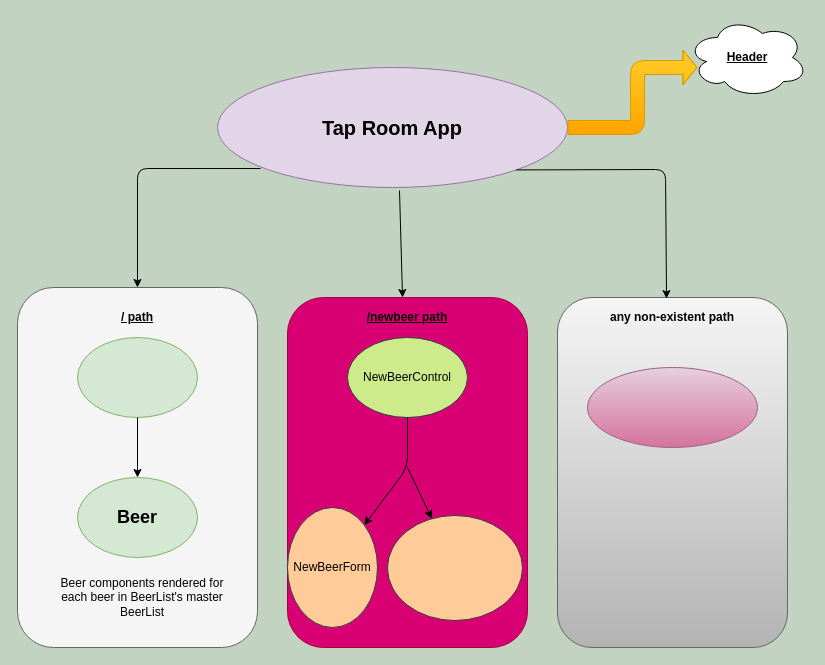
This 825x665 diagram has some shape labels left out. Here are the shapes that lost their labels. From the top down, the centre of each, then its label:
At [137,377]: "BeerList".
At [672,407]: "Error404".
At [454,567]: "ConfirmationQuestions".
